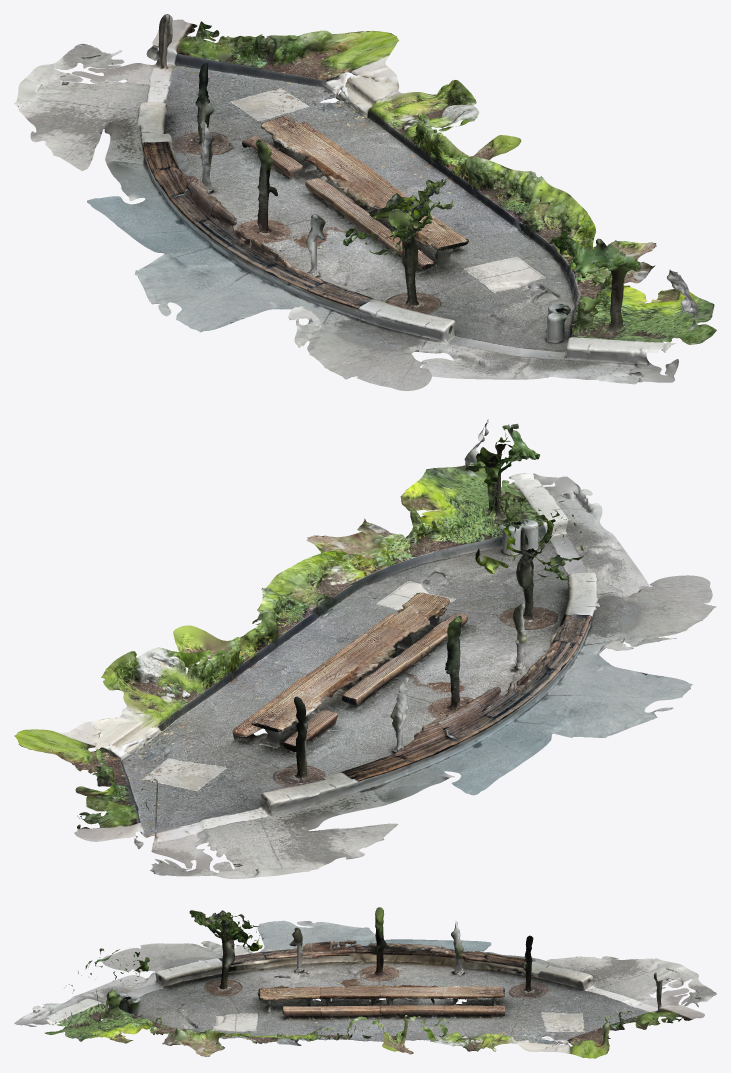
The model's file is long_table.glb.
3 views of the same model, one above another, from view 1: azimuth 30°, elevation 25°; view 2: azimuth 150°, elevation 25°; view 3: azimuth 270°, elevation 25° (orthographic). The views are drawn at different scales.
Parts seen in each view (by area): view 1: Object_1, Object_2, Object_3; view 2: Object_1, Object_2, Object_3; view 3: Object_2, Object_1, Object_3.
Part boxes in pixels (left/top/right/bottom): Object_1: left=14, top=25, right=716, bottom=390; Object_2: left=16, top=14, right=714, bottom=379; Object_3: left=71, top=16, right=698, bottom=382; Object_1: left=23, top=421, right=716, bottom=878; Object_2: left=14, top=423, right=675, bottom=876; Object_3: left=22, top=419, right=704, bottom=870; Object_2: left=20, top=916, right=716, bottom=1058; Object_1: left=32, top=915, right=716, bottom=1057; Object_3: left=14, top=907, right=689, bottom=1053.
Bounding box in the file's own units: 14.16 × 3.96 × 27.8.
3 materials, 3 textured.
